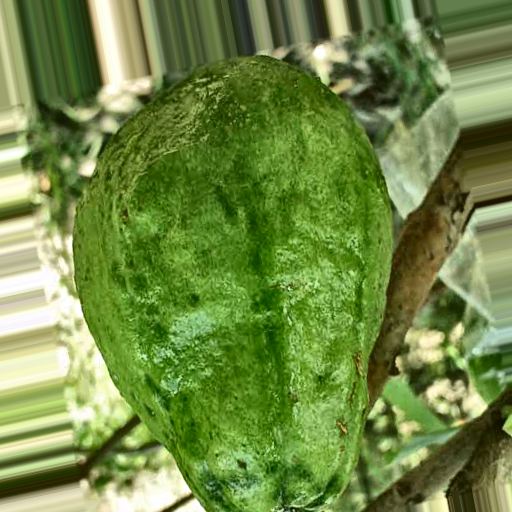guava: (39, 88, 424, 417)
